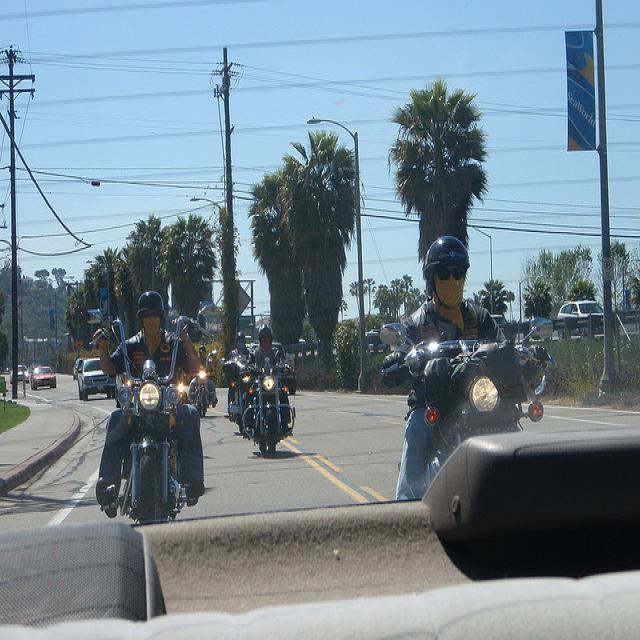motor: (79, 289, 229, 527), (380, 317, 554, 449), (243, 365, 297, 455), (223, 354, 251, 425), (192, 349, 219, 417)
